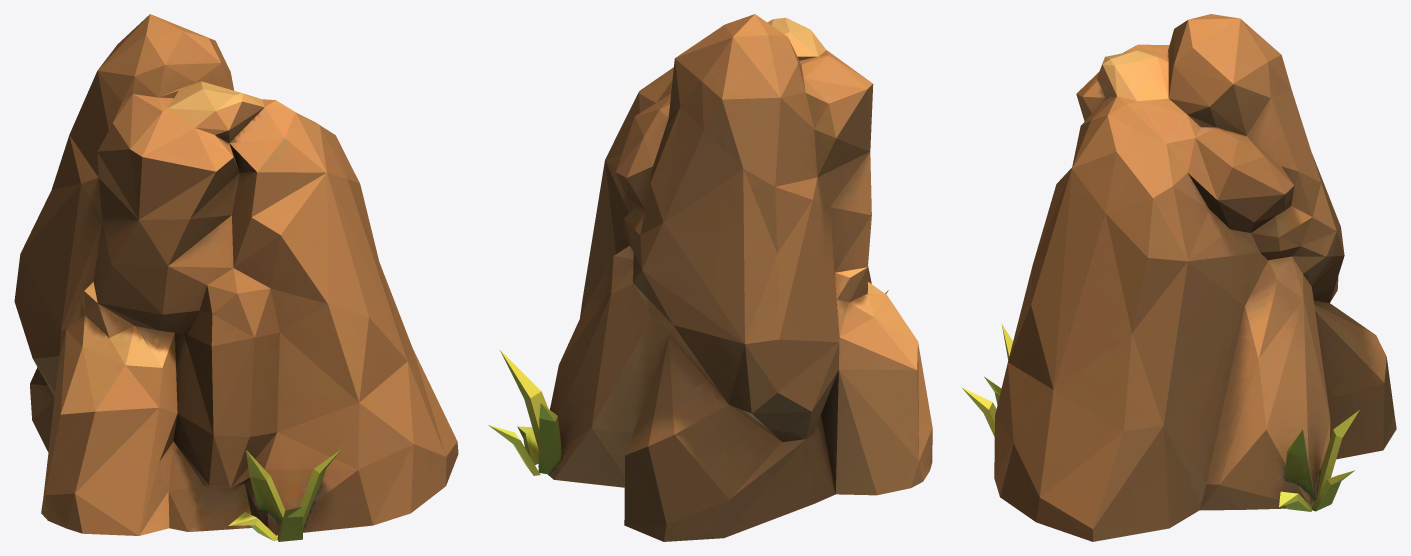
Rendered from dmRuyy1VXEv.glb.
3 views of the same model, side by side, from view 1: azimuth 30°, elevation 25°; view 2: azimuth 150°, elevation 25°; view 3: azimuth 270°, elevation 25° (orthographic). The views are drawn at different scales.
Parts seen in each view (by area): view 1: rock; view 2: rock; view 3: rock.
Part boxes in pixels (x1=…): rock: x1=14, y1=14, x2=458, y2=541; rock: x1=488, y1=14, x2=932, y2=541; rock: x1=962, y1=14, x2=1396, y2=541.
Size of the model in its own units: 0.8932 by 1 by 0.9436.
1 material, 1 textured.
